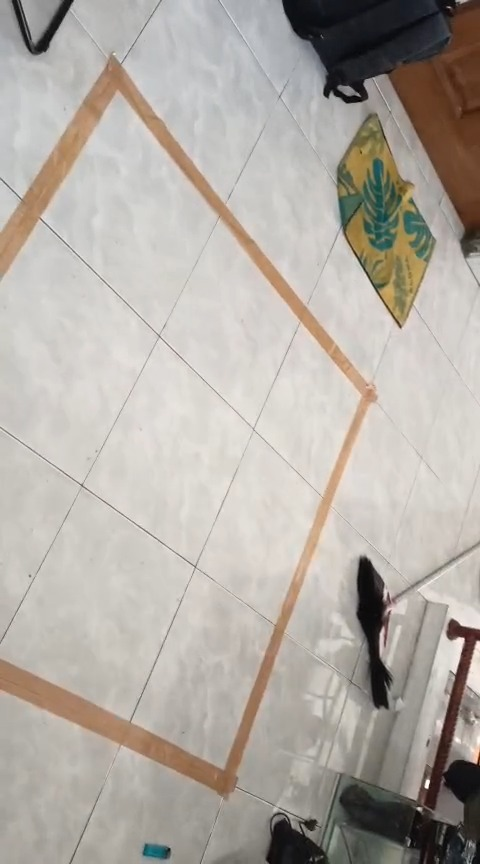floor marking: (0, 55, 375, 796)
